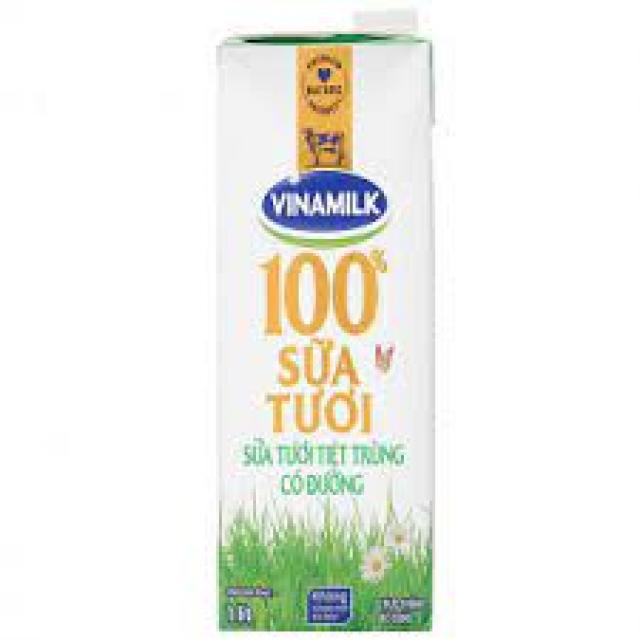non_white_jug: (183, 14, 460, 640)
